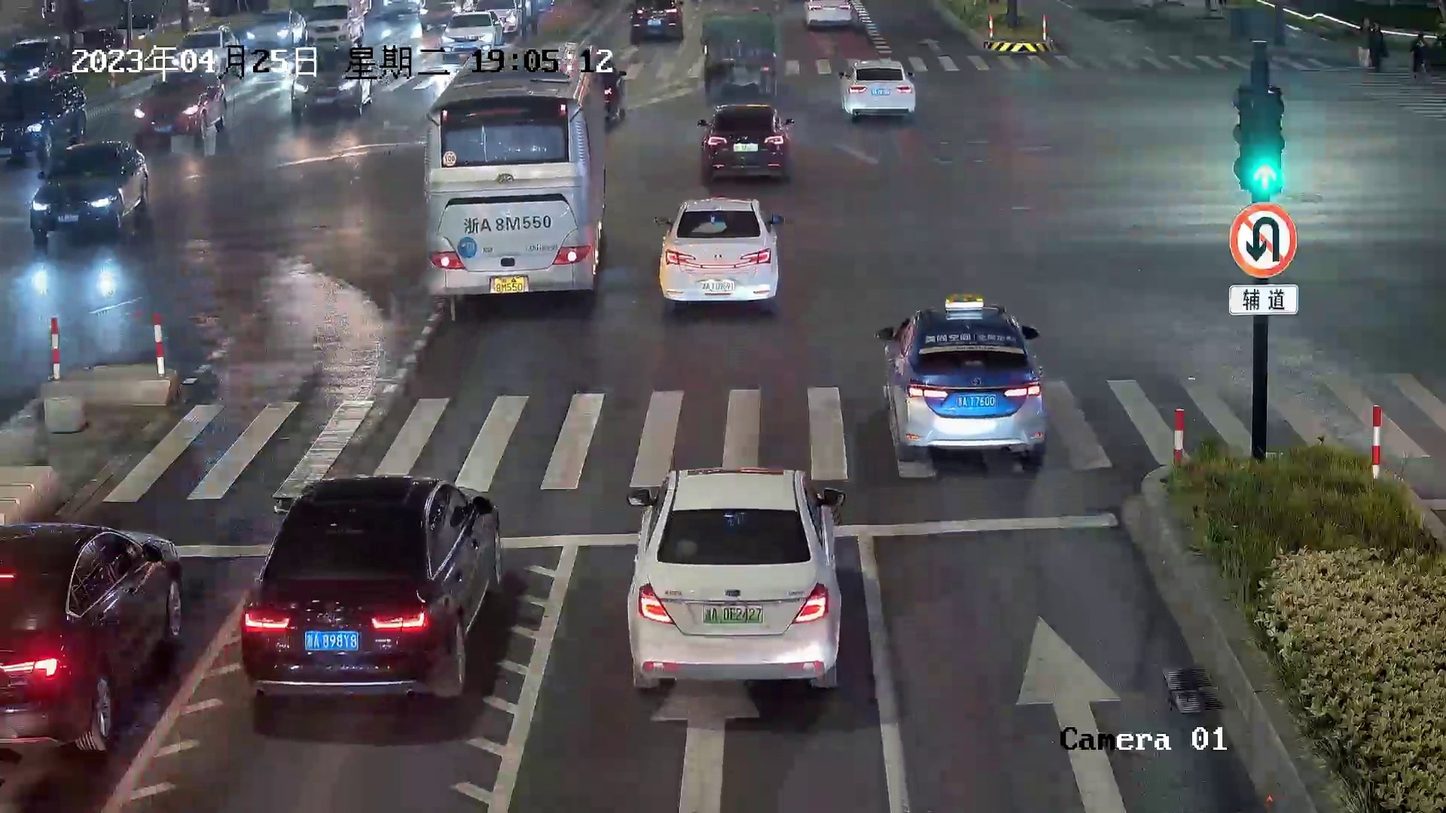vehicle: (240, 473, 505, 695), (620, 463, 847, 688), (412, 43, 606, 306), (2, 515, 183, 764), (872, 290, 1054, 461), (649, 196, 786, 307), (22, 134, 147, 242), (0, 72, 90, 160), (697, 7, 780, 96), (697, 102, 789, 179), (131, 70, 220, 147), (284, 55, 376, 124), (837, 56, 917, 122), (438, 11, 511, 56), (623, 1, 680, 44), (247, 5, 307, 44), (805, 0, 855, 29)
